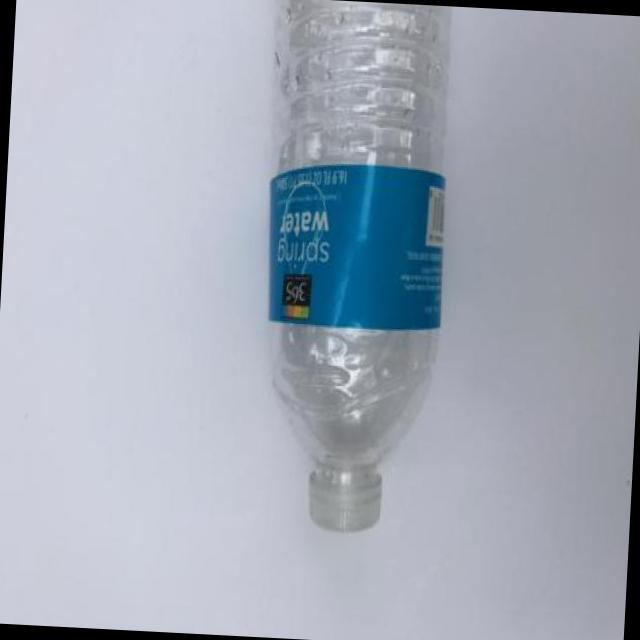plastic_bottle: (249, 0, 457, 537)
